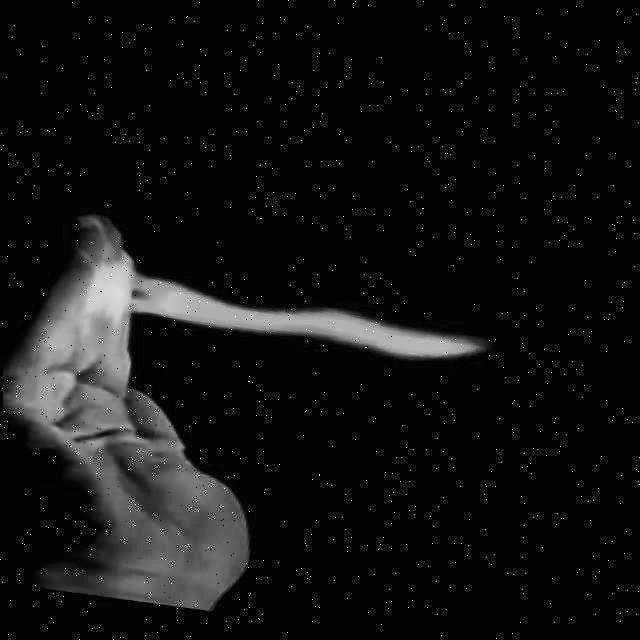Fire: (83, 236, 501, 400)
